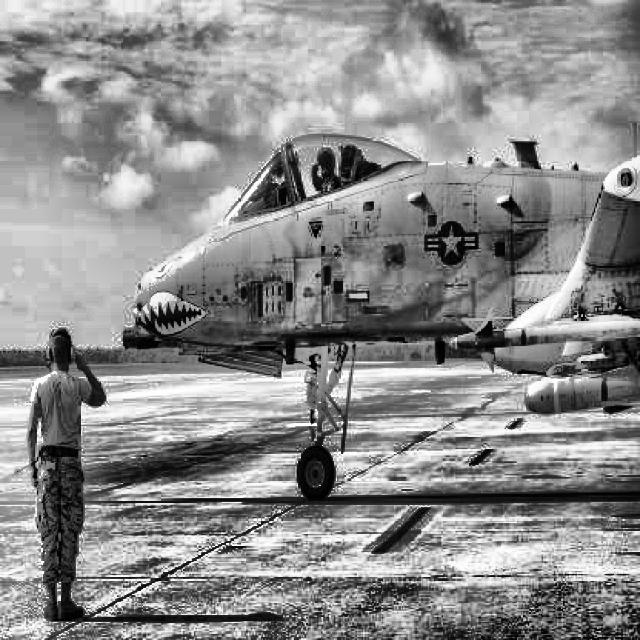A10: (121, 119, 640, 498)
